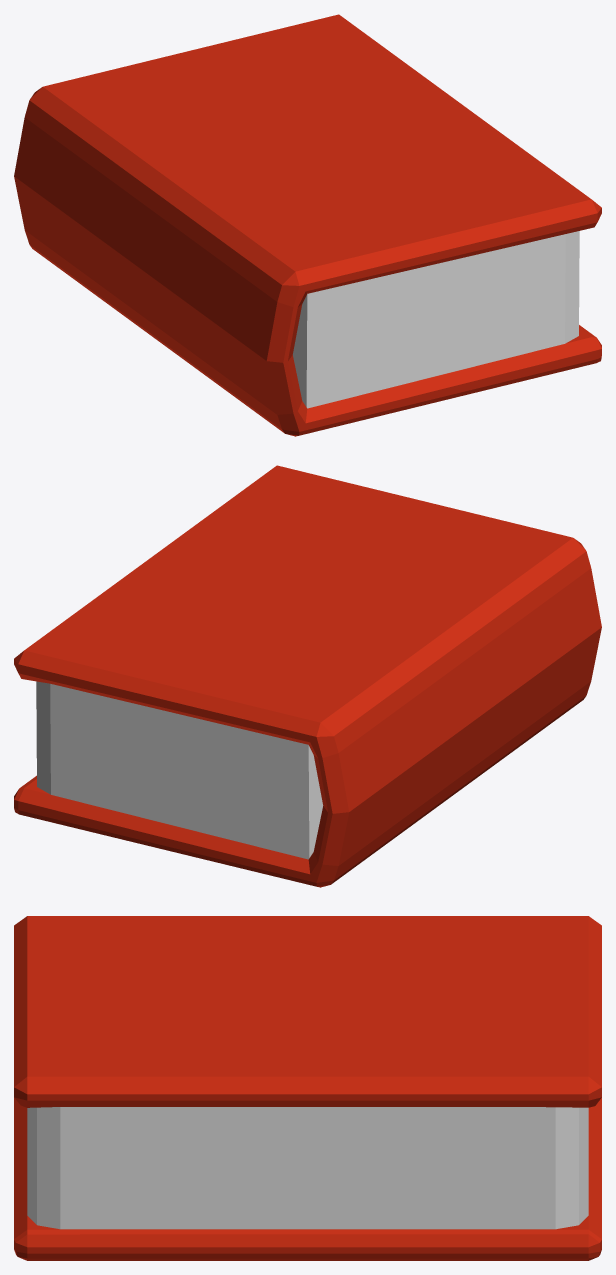
The model's file is Book2.fbx.
The picture shows the model from 3 angles, top to bottom: view 1: azimuth 30°, elevation 25°; view 2: azimuth 150°, elevation 25°; view 3: azimuth 270°, elevation 25°; orthographic projection. The views are drawn at different scales.
Parts seen in each view (by area): view 1: Book2; view 2: Book2; view 3: Book2.
Boxes of the visible parts, x1=… form: Book2: x1=14, y1=14, x2=601, y2=436; Book2: x1=14, y1=465, x2=601, y2=887; Book2: x1=14, y1=916, x2=601, y2=1260.
Size of the model in its own units: 0.2573 by 0.121 by 0.3517.
1 material, 1 textured.
